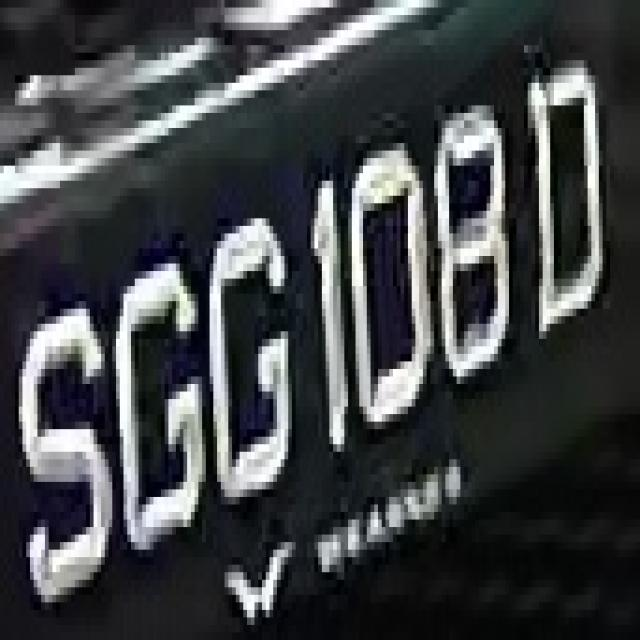0: (340, 121, 430, 429)
1: (292, 166, 355, 474)
8: (426, 98, 516, 399)
D: (517, 38, 610, 338)
G: (109, 241, 214, 565), (198, 180, 296, 504)
S: (15, 286, 112, 618)
